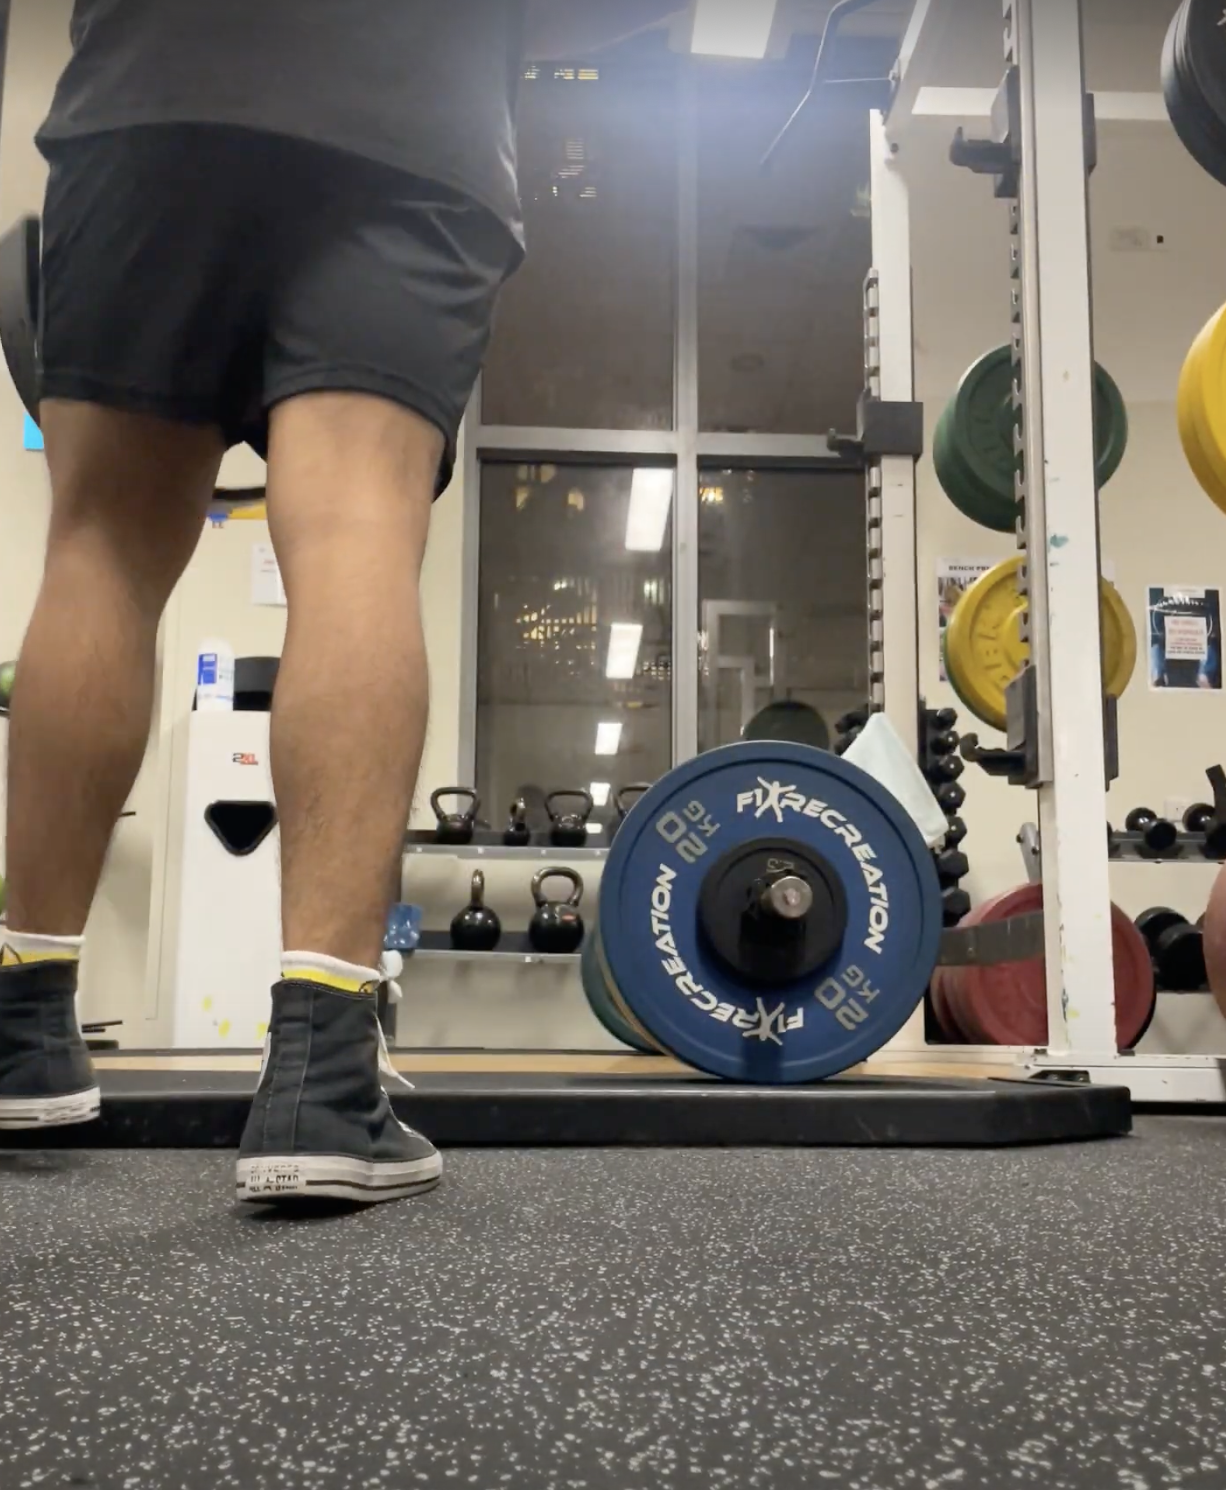barbell: (774, 874, 802, 916)
